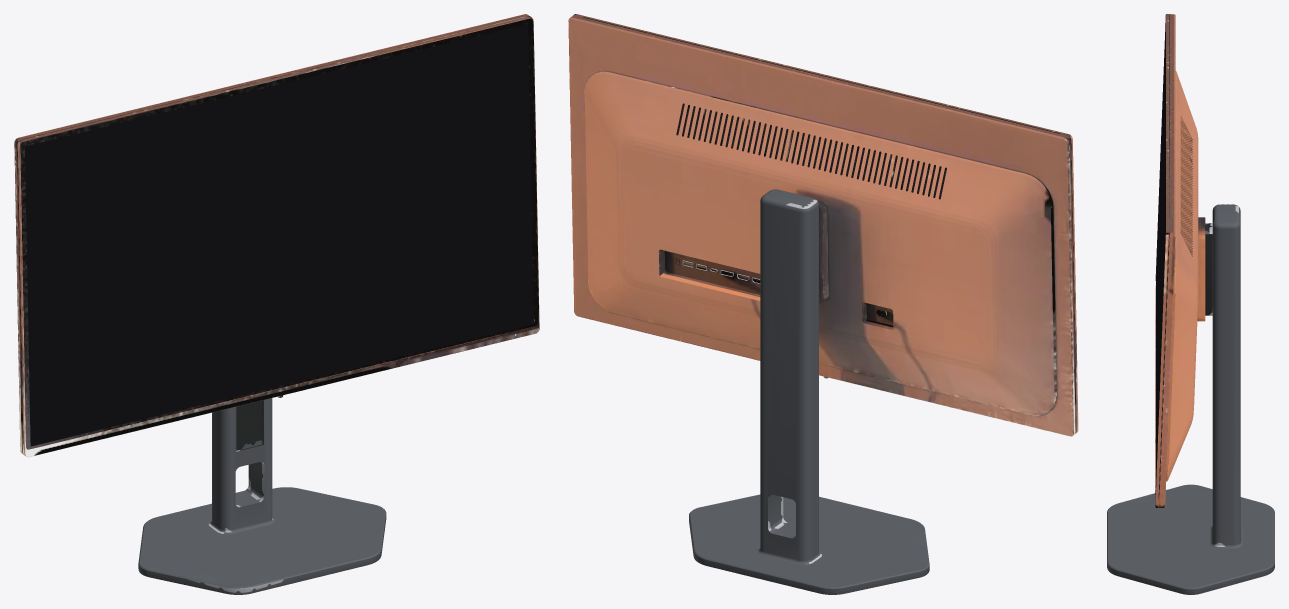
Rendered from monitor.glb.
3 renders of one model, left to right at view 1: azimuth 30°, elevation 25°; view 2: azimuth 150°, elevation 25°; view 3: azimuth 270°, elevation 25°, orthographic. The views are drawn at different scales.
Parts seen in each view (by area): view 1: mon_screen, NEW_monitor_root__mesh, NEW_monitor_lift__mesh; view 2: NEW_monitor_lift__mesh, NEW_monitor_root__mesh; view 3: NEW_monitor_root__mesh, NEW_monitor_lift__mesh, mon_screen.
Part boxes in pixels (x1,y1,x2,y2): mon_screen: [25, 24, 533, 446]; NEW_monitor_root__mesh: [138, 398, 386, 594]; NEW_monitor_lift__mesh: [14, 14, 539, 457]; NEW_monitor_lift__mesh: [568, 14, 1078, 436]; NEW_monitor_root__mesh: [689, 189, 929, 594]; NEW_monitor_root__mesh: [1107, 204, 1274, 594]; NEW_monitor_lift__mesh: [1155, 14, 1212, 507]; mon_screen: [1156, 25, 1165, 485].
Size of the model in its own units: 0.64 by 0.5667 by 0.205.
Materials: 4 (3 with a texture image).
